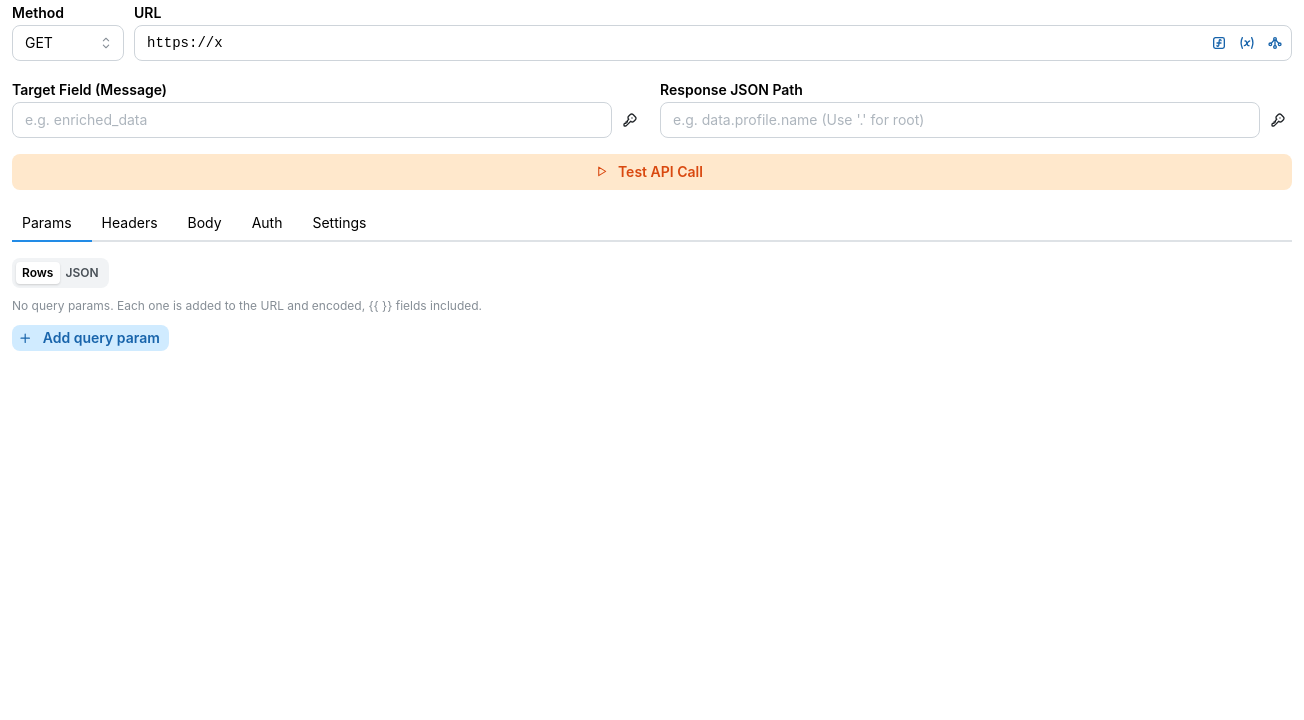
api_lookup miss policy and cache TTL › states the default TTL and how to turn the cache off
Click the tab "Settings". click: (339,224)
box: [302,206,376,242]
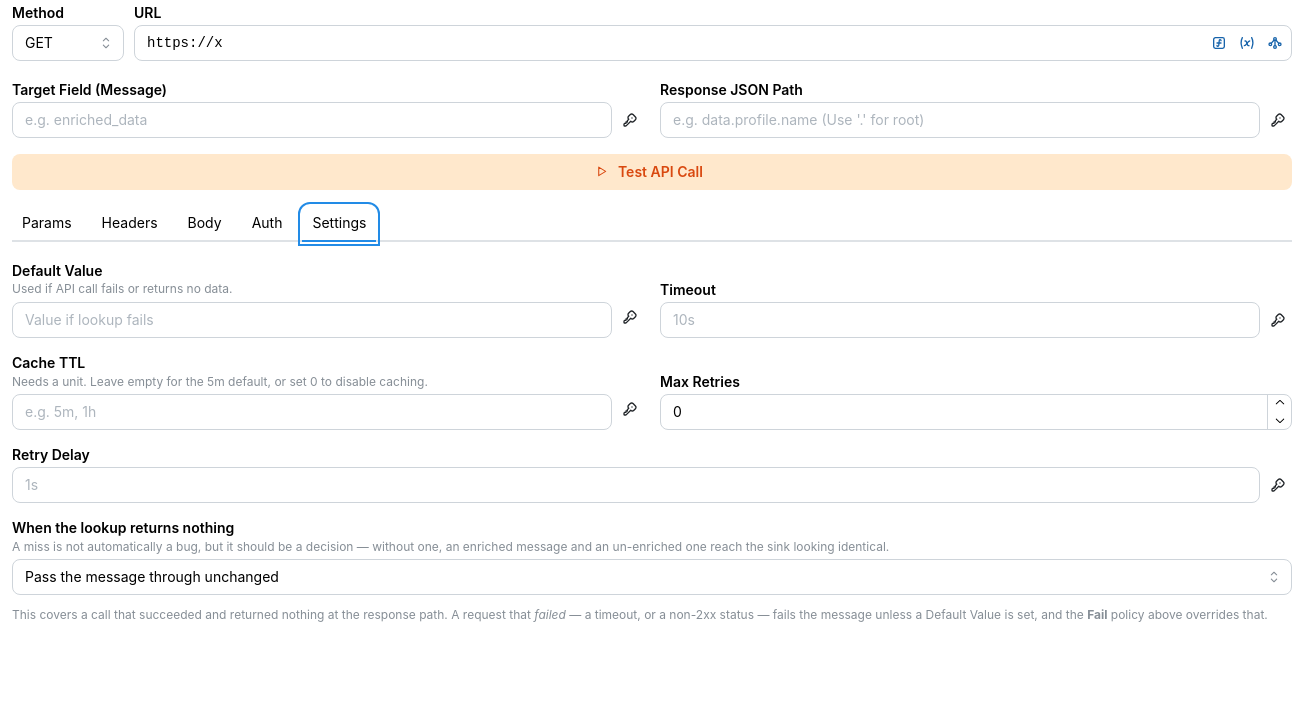
Expected: the text with test id "api-lookup-ttl-description" shows "5m", [12,374,428,389]
Expected: the text with test id "api-lookup-ttl-description" shows "0", [12,374,428,389]
